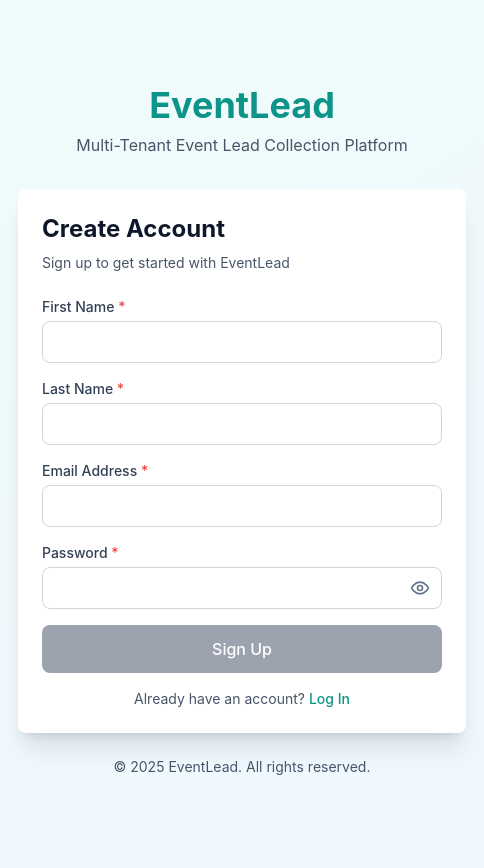
it: SignupForm Component › Form Submission › should show success message after successful signup
In the field labelled "First Name *": (242, 342) [42, 321, 442, 363], type "John"
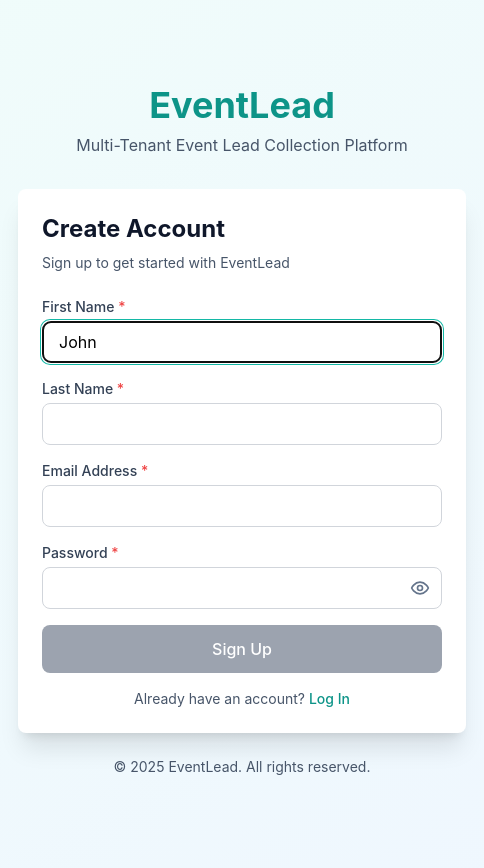
In the field labelled "Last Name *": (242, 424) [42, 403, 442, 445], type "Doe"
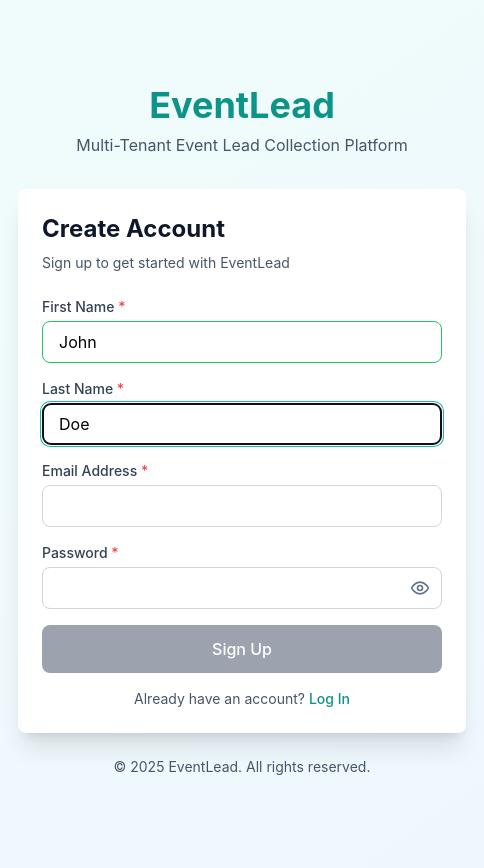
In the field labelled "Email Address *": (242, 506) [42, 485, 442, 527], type "john@example.com"
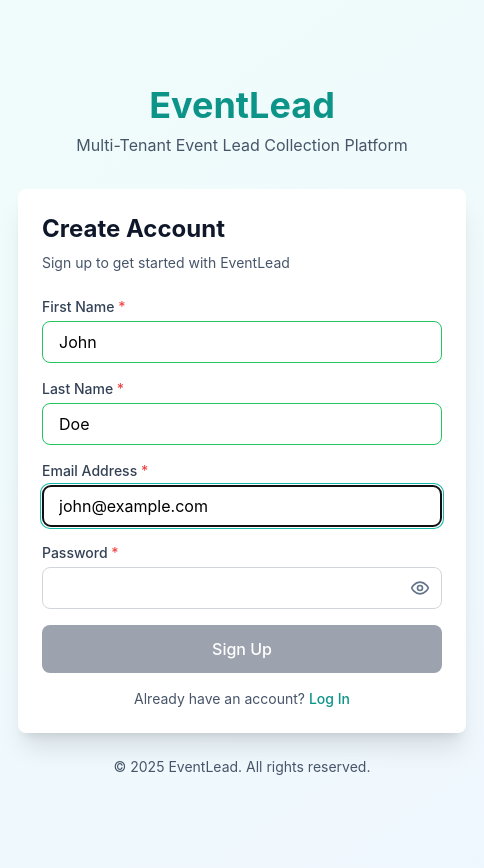
In the password field labelled "Password *": (242, 588) [42, 567, 442, 609], type "Test1234!"
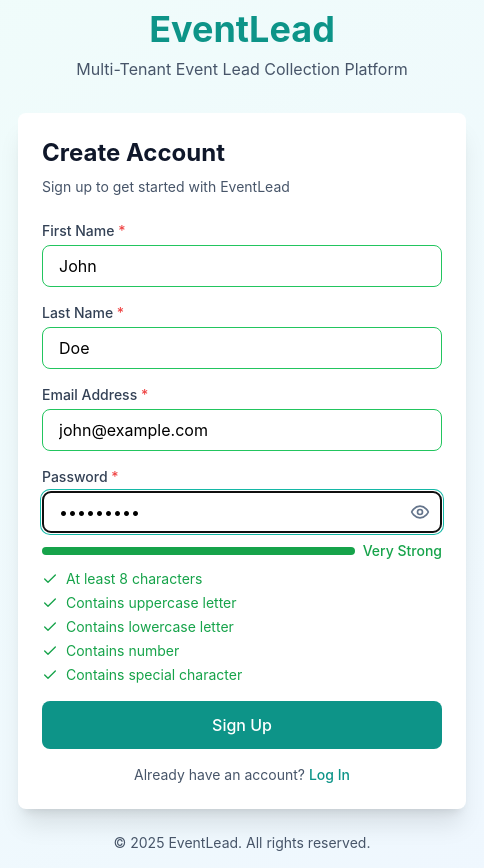
Click the button "Sign Up": (242, 725) [42, 701, 442, 749]
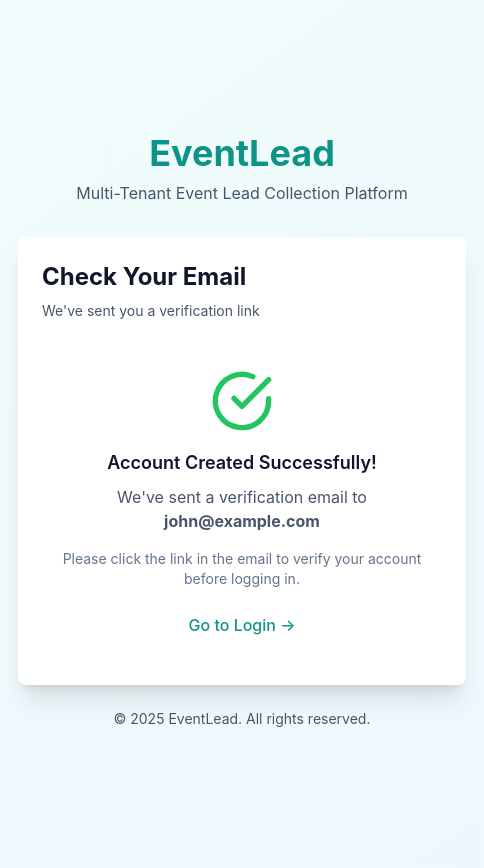
Result: the heading "Check Your Email" is shown at [42, 262, 246, 291]
Result: the heading "Account Created Successfully!" is shown at [107, 452, 377, 473]
